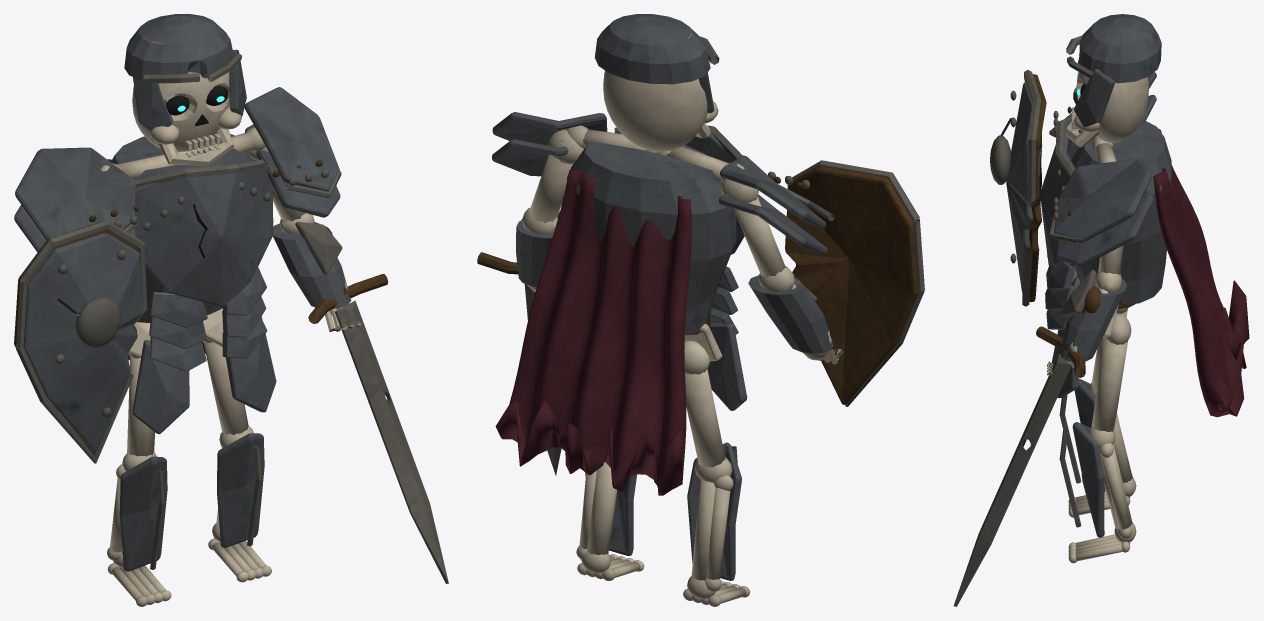
File: revenant.glb
The picture shows the model from 3 angles, left to right: view 1: azimuth 30°, elevation 25°; view 2: azimuth 150°, elevation 25°; view 3: azimuth 270°, elevation 25°; orthographic projection. The views are drawn at different scales.
Visible parts, largest first — view 1: Body_Baked.074, ArmLowerL_Baked.017, Head_Baked.039, ArmUpperL_Baked.017, ArmUpperR_Baked.017, Sword_Baked.022, LegLowerL_Baked.017, LegLowerR_Baked.017, LegUpperL_Baked.017, ArmLowerR_Baked.017, LegUpperR_Baked.017; view 2: Cape_Baked.025, ArmLowerL_Baked.017, Body_Baked.074, Head_Baked.039, ArmUpperL_Baked.017, LegLowerL_Baked.017, ArmUpperR_Baked.017, LegLowerR_Baked.017, LegUpperL_Baked.017, ArmLowerR_Baked.017, Sword_Baked.022; view 3: Body_Baked.074, Cape_Baked.025, Head_Baked.039, ArmUpperR_Baked.017, ArmLowerL_Baked.017, LegLowerR_Baked.017, Sword_Baked.022, ArmLowerR_Baked.017, LegUpperR_Baked.017, LegLowerL_Baked.017, ArmUpperL_Baked.017, LegUpperL_Baked.017.
Boxes of the visible parts, bbox=[...] form: Body_Baked.074: bbox=[111, 132, 273, 371]; ArmLowerL_Baked.017: bbox=[14, 220, 147, 463]; Head_Baked.039: bbox=[124, 14, 246, 165]; ArmUpperL_Baked.017: bbox=[14, 147, 139, 252]; ArmUpperR_Baked.017: bbox=[244, 87, 341, 221]; Sword_Baked.022: bbox=[308, 226, 448, 583]; LegLowerL_Baked.017: bbox=[107, 456, 171, 606]; LegLowerR_Baked.017: bbox=[208, 433, 271, 582]; LegUpperL_Baked.017: bbox=[122, 340, 189, 471]; ArmLowerR_Baked.017: bbox=[273, 213, 361, 331]; LegUpperR_Baked.017: bbox=[203, 316, 276, 447]; Cape_Baked.025: bbox=[495, 169, 691, 495]; ArmLowerL_Baked.017: bbox=[748, 160, 924, 406]; Body_Baked.074: bbox=[567, 125, 744, 374]; Head_Baked.039: bbox=[594, 14, 719, 151]; ArmUpperL_Baked.017: bbox=[718, 155, 834, 277]; LegLowerL_Baked.017: bbox=[683, 442, 749, 606]; ArmUpperR_Baked.017: bbox=[492, 112, 607, 223]; LegLowerR_Baked.017: bbox=[576, 461, 644, 580]; LegUpperL_Baked.017: bbox=[685, 323, 747, 482]; ArmLowerR_Baked.017: bbox=[516, 207, 559, 291]; Sword_Baked.022: bbox=[477, 218, 561, 475]; Body_Baked.074: bbox=[1037, 116, 1171, 344]; Cape_Baked.025: bbox=[1153, 128, 1249, 417]; Head_Baked.039: bbox=[1065, 14, 1161, 147]; ArmUpperR_Baked.017: bbox=[1049, 158, 1153, 274]; ArmLowerL_Baked.017: bbox=[990, 70, 1047, 306]; LegLowerR_Baked.017: bbox=[1059, 422, 1136, 563]; Sword_Baked.022: bbox=[953, 286, 1101, 606]; ArmLowerR_Baked.017: bbox=[1047, 269, 1127, 375]; LegUpperR_Baked.017: bbox=[1051, 329, 1127, 448]; LegLowerL_Baked.017: bbox=[1059, 378, 1136, 517]; ArmUpperL_Baked.017: bbox=[1049, 72, 1156, 137]; LegUpperL_Baked.017: bbox=[1073, 276, 1127, 396].
Bounding box in the file's own units: 1.35 × 1.79 × 0.9391.
Materials: 2 (1 with a texture image).
